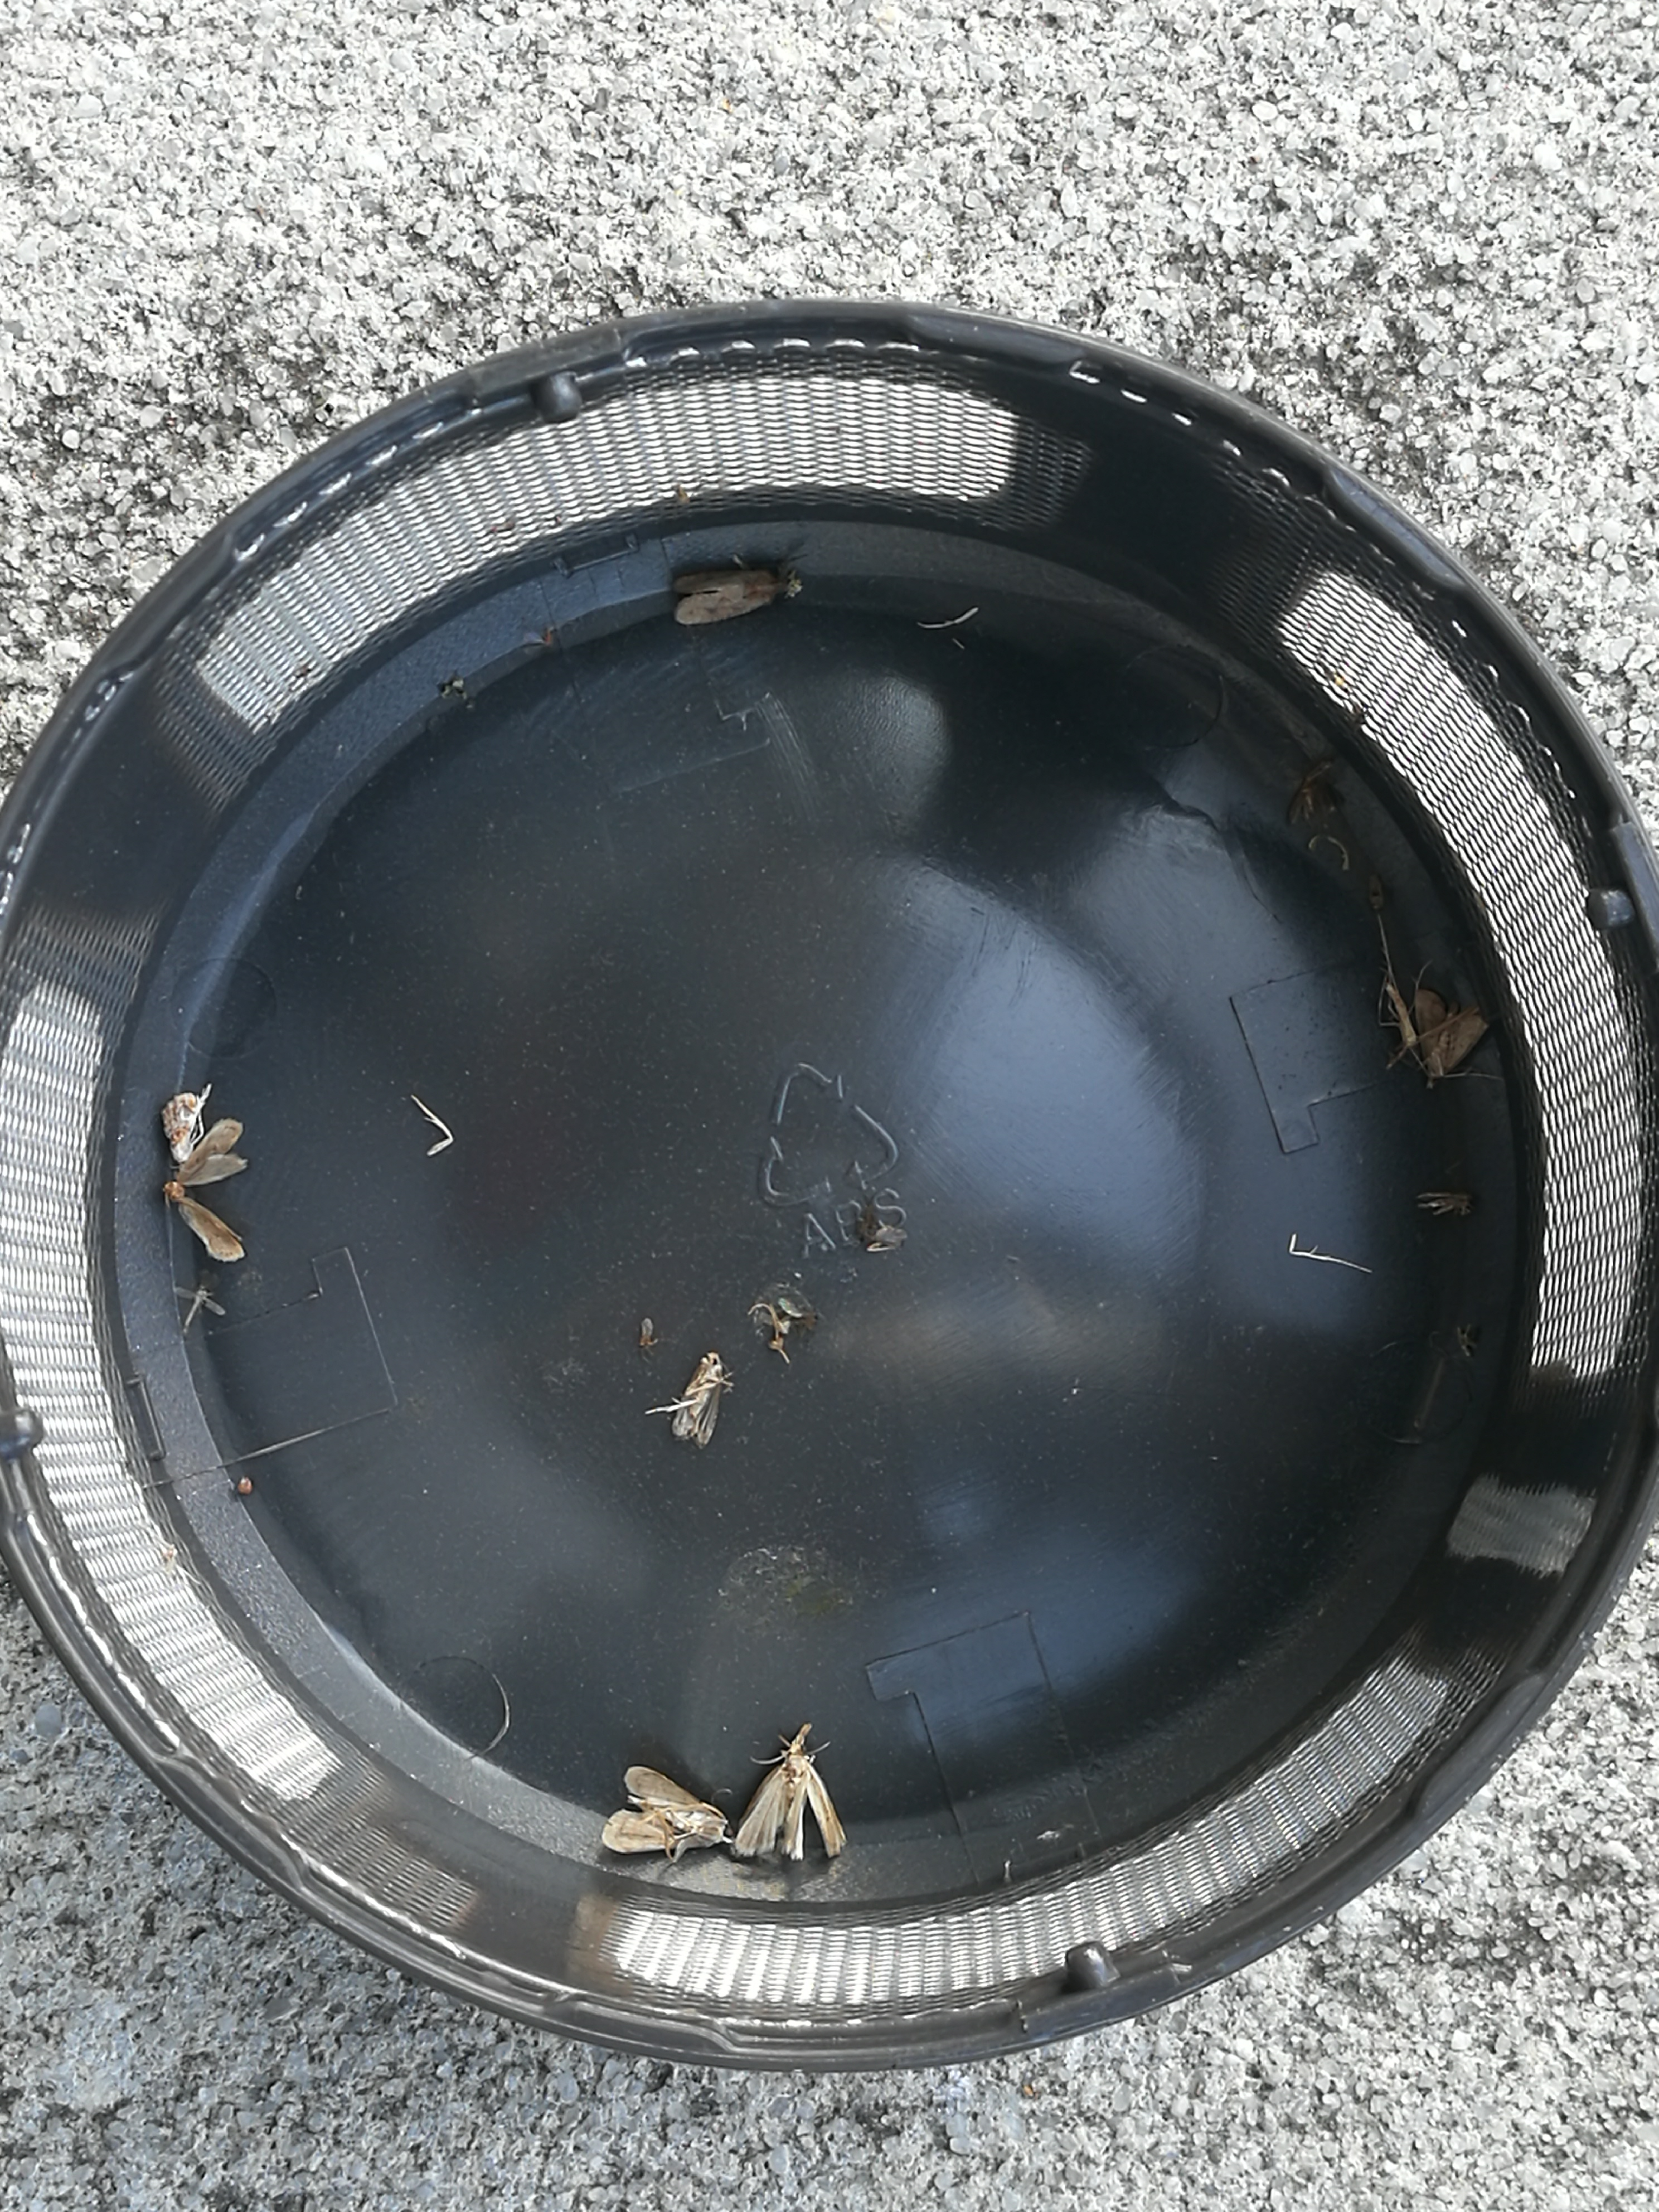mosquito: (1417, 1193, 1474, 1216)
moth: (734, 1724, 847, 1858), (601, 1766, 732, 1851), (169, 1123, 246, 1261), (1417, 989, 1490, 1087), (673, 571, 800, 624), (671, 1353, 723, 1447), (162, 1092, 202, 1163)
